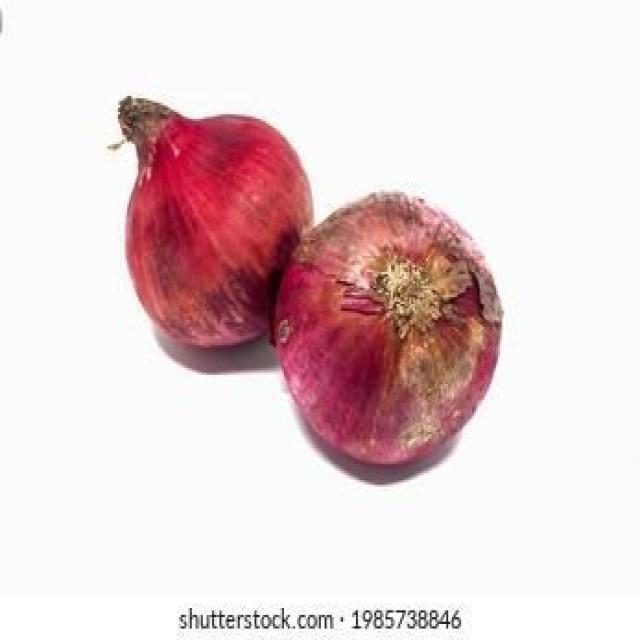Onion: (270, 194, 503, 471), (113, 94, 306, 347)
